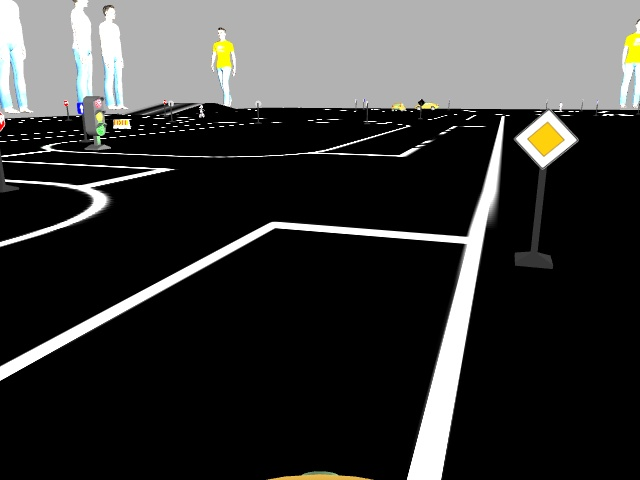ClosedRoadStand: (112, 116, 132, 128)
Priority: (519, 112, 575, 165)
TrafficLight: (81, 96, 105, 137)
